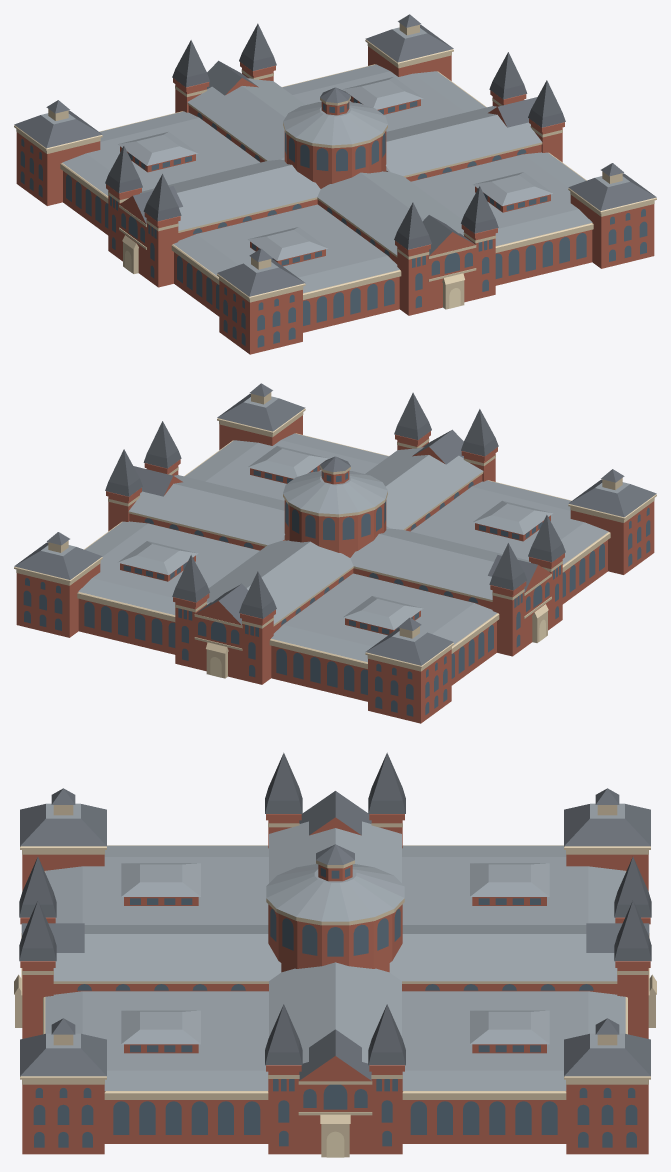
File: detail.glb
The picture shows the model from 3 angles, top to bottom: view 1: azimuth 30°, elevation 25°; view 2: azimuth 150°, elevation 25°; view 3: azimuth 270°, elevation 25°; orthographic projection. The views are drawn at different scales.
Parts seen in each view (by area): view 1: arts-and-industries-building; view 2: arts-and-industries-building; view 3: arts-and-industries-building.
Part boxes in pixels (x1,y1,x2,y2): arts-and-industries-building: [14, 14, 656, 354]; arts-and-industries-building: [14, 383, 656, 723]; arts-and-industries-building: [14, 752, 656, 1157].
Bounding box in the file's own units: 103 × 31.5 × 103.
